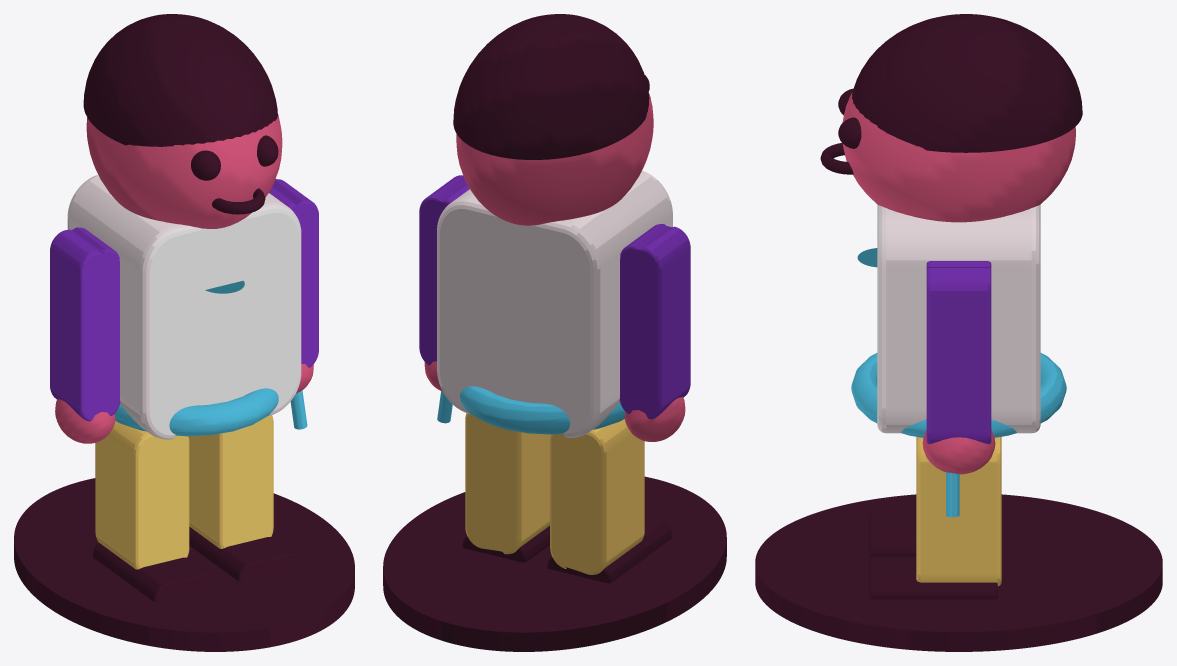
File: 1074_古文观止_桃花林.glb
The picture shows the model from 3 angles, left to right: view 1: azimuth 30°, elevation 25°; view 2: azimuth 150°, elevation 25°; view 3: azimuth 270°, elevation 25°; orthographic projection. The views are drawn at different scales.
Parts seen in each view (by area): view 1: card_1074; view 2: card_1074; view 3: card_1074.
Boxes of the visible parts, box(x1,y1,x2,y2) form: card_1074: box(14, 14, 354, 651); card_1074: box(383, 14, 726, 651); card_1074: box(755, 14, 1162, 651).
Bounding box in the file's own units: 0.5333 × 1 × 0.6595.
